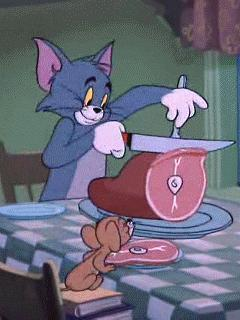jerry: (59, 214, 139, 293)
